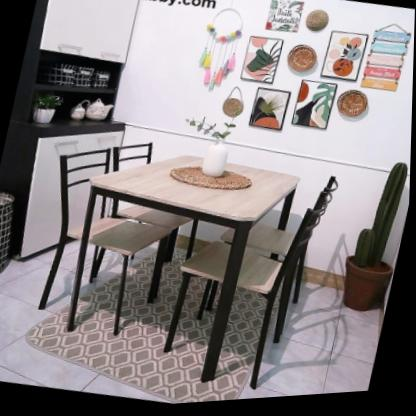Carpet: (26, 307, 258, 406)
Ceramic floor: (0, 258, 166, 404), (241, 294, 384, 403)
Dining Table: (0, 110, 353, 416)
